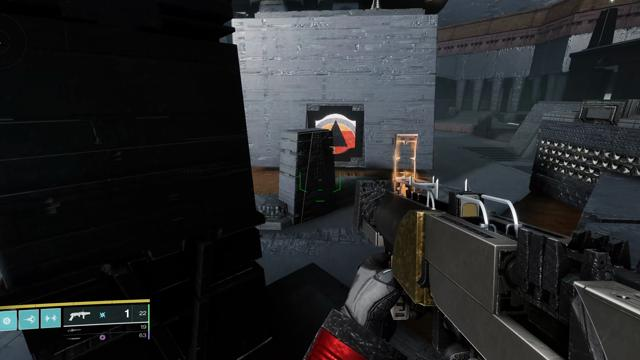pyramid: (315, 113, 357, 155)
